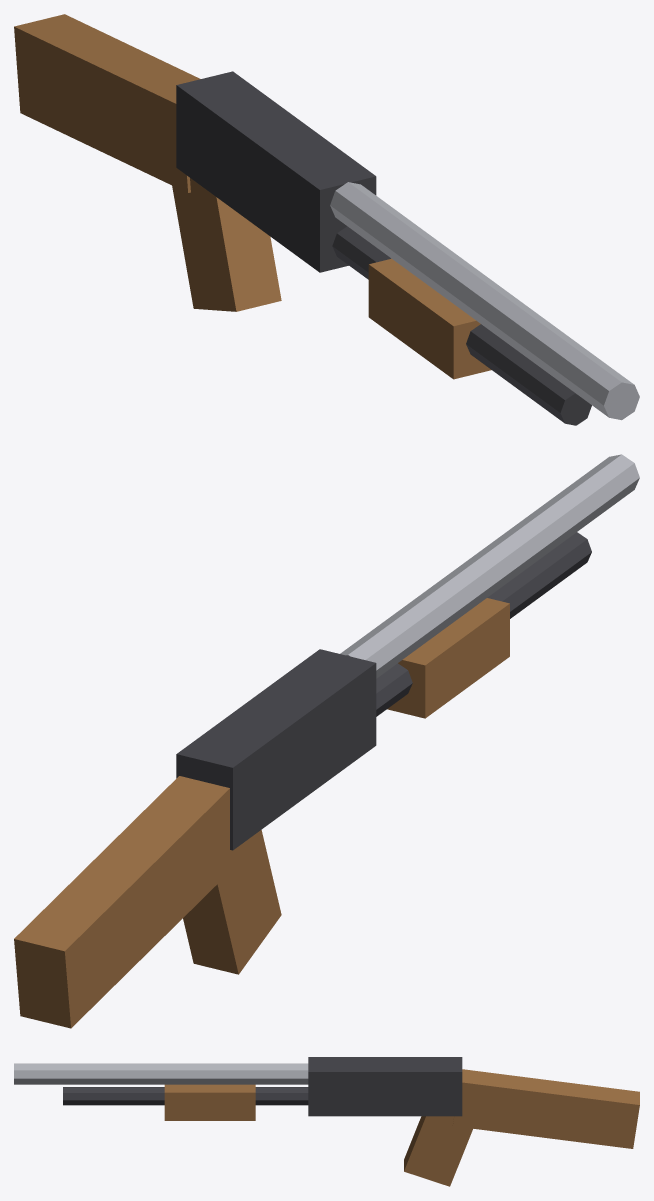
File: Shotgun.fbx
The picture shows the model from 3 angles, top to bottom: view 1: azimuth 30°, elevation 25°; view 2: azimuth 150°, elevation 25°; view 3: azimuth 270°, elevation 25°; orthographic projection. The views are drawn at different scales.
Visible parts, largest first — view 1: Shotgun; view 2: Shotgun; view 3: Shotgun.
Part boxes in pixels (<box>): Shotgun: <box>14,14,639,425</box>; Shotgun: <box>14,454,639,1028</box>; Shotgun: <box>14,1057,639,1186</box>.
Bounding box in the file's own units: 0.05 × 0.1844 × 0.8936.
